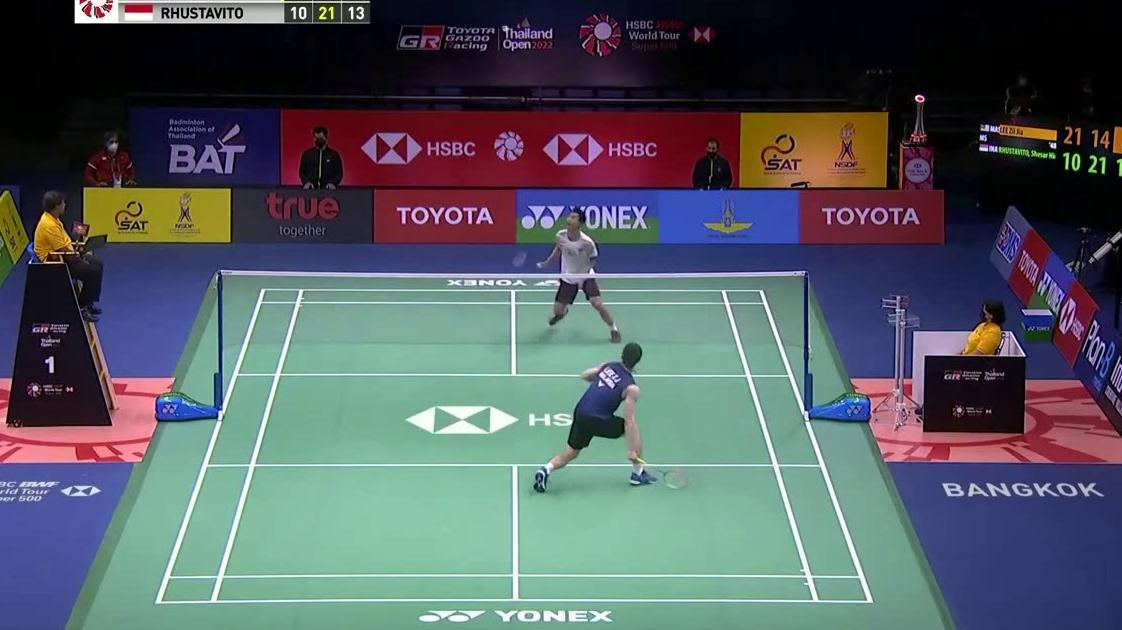racket: (633, 455, 688, 490), (512, 251, 543, 270)
shuttle: (500, 24, 510, 33)
